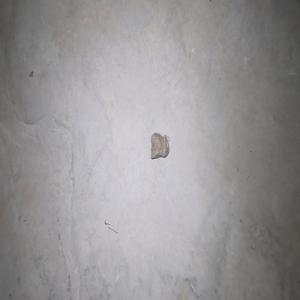Rock: (150, 131, 169, 159)
